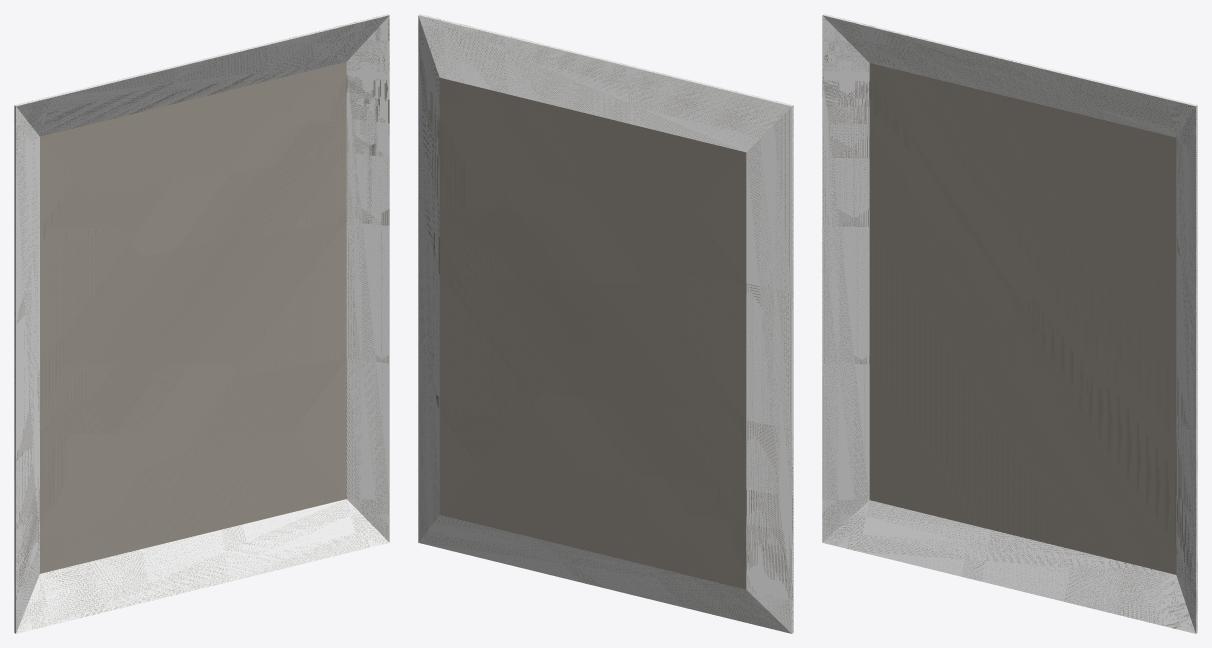
Rendered from tray_blue_white.obj.
3 renders of one model, left to right at view 1: azimuth 30°, elevation 25°; view 2: azimuth 150°, elevation 25°; view 3: azimuth 330°, elevation 25°, orthographic.
Parts seen in each view (by area): view 1: tray_blue_white; view 2: tray_blue_white; view 3: tray_blue_white.
Boxes of the visible parts, <box> form: tray_blue_white: <box>14,14,389,633</box>; tray_blue_white: <box>418,14,793,633</box>; tray_blue_white: <box>822,14,1197,633</box>.
Size of the model in its own units: 0.3703 by 0.4995 by 0.02.
4 materials, 2 textured.
